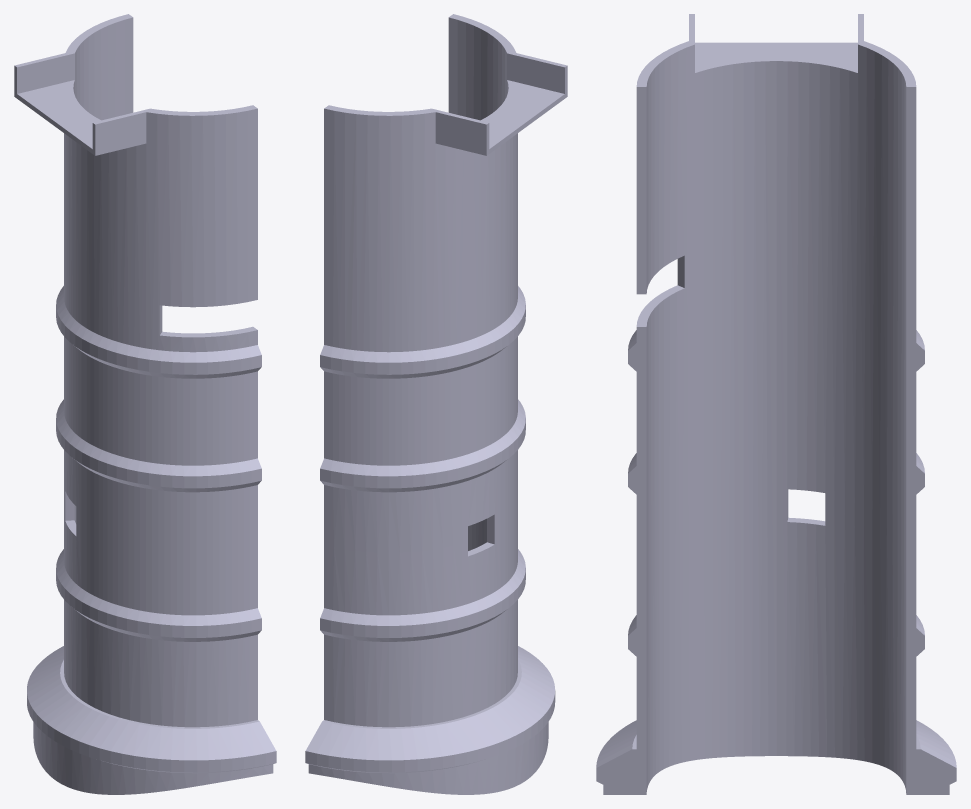
The model's file is PX14-cut2.glb.
3 views of the same model, side by side, from view 1: azimuth 30°, elevation 25°; view 2: azimuth 150°, elevation 25°; view 3: azimuth 270°, elevation 25° (orthographic). The views are drawn at different scales.
Visible parts, largest first — view 1: null; view 2: null; view 3: null.
Boxes of the visible parts, box(x1,y1,x2,y2) form: null: box(14, 14, 276, 794); null: box(305, 14, 567, 794); null: box(596, 14, 956, 794).
Bounding box in the file's own units: 12.5 × 56.74 × 25.
